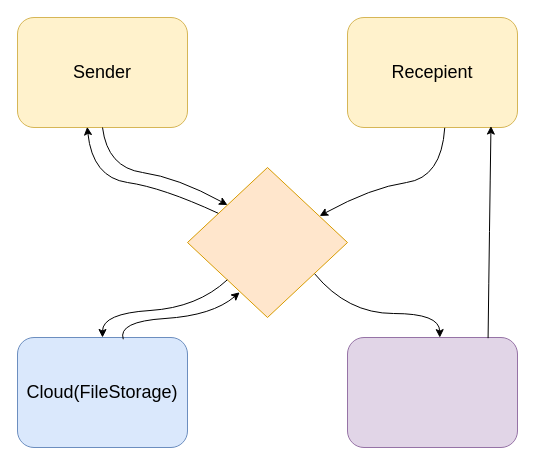
This 535x465 diagram has some shape labels left out. The shapes that lost their labels are listed below. From the top down, each one's centre as x and y in pixels, then its label:
At pixel 267 242: "File Transfer Service".
At pixel 432 392: "Email Service".
